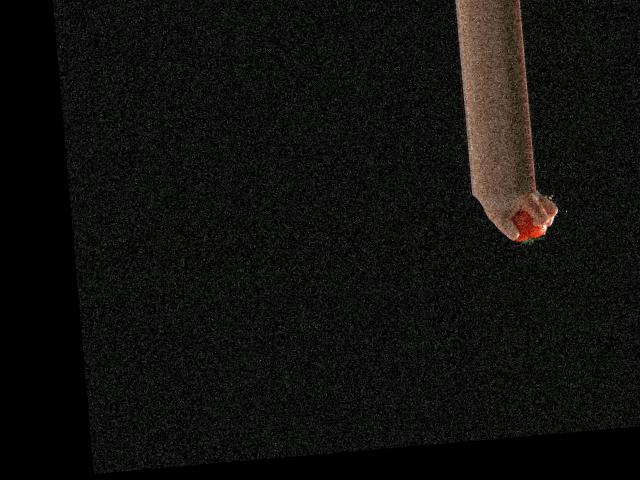tomato: (510, 208, 547, 241)
